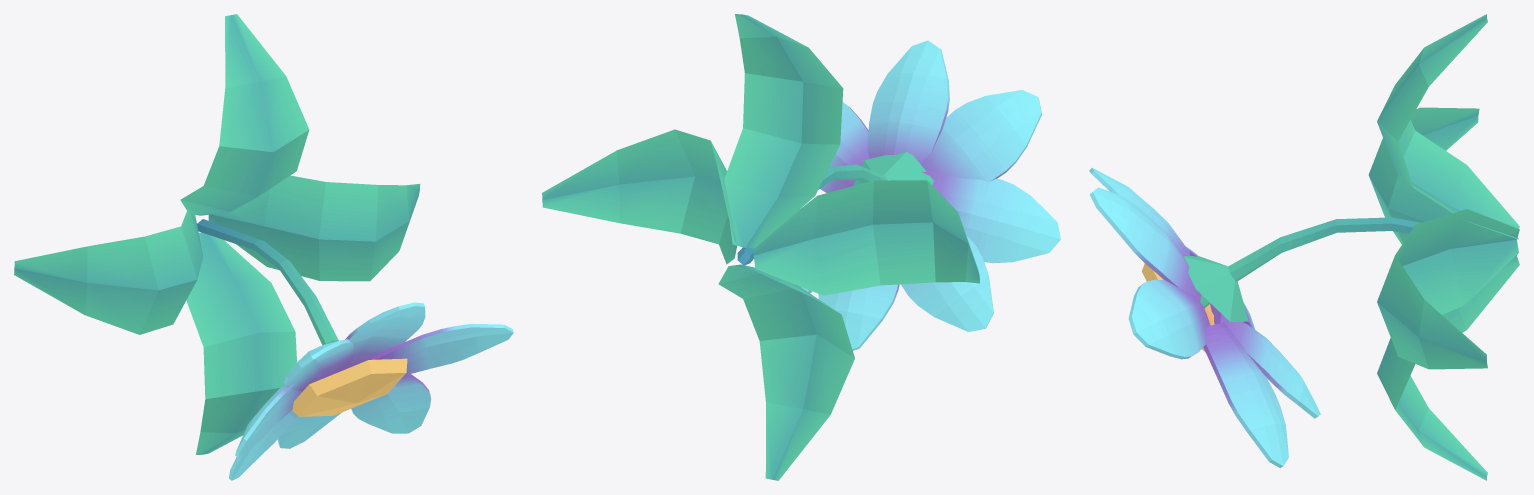
The model's file is flower3.glb.
3 views of the same model, side by side, from view 1: azimuth 30°, elevation 25°; view 2: azimuth 150°, elevation 25°; view 3: azimuth 270°, elevation 25° (orthographic). The views are drawn at different scales.
Visible parts, largest first — view 1: flower.003_19; view 2: flower.003_19; view 3: flower.003_19.
Boxes of the visible parts, <box> form: flower.003_19: <box>14,14,513,480</box>; flower.003_19: <box>542,14,1060,480</box>; flower.003_19: <box>1089,14,1519,480</box>.
Size of the model in its own units: 2.12 by 2.15 by 1.76.
Materials: 1 (1 with a texture image).
